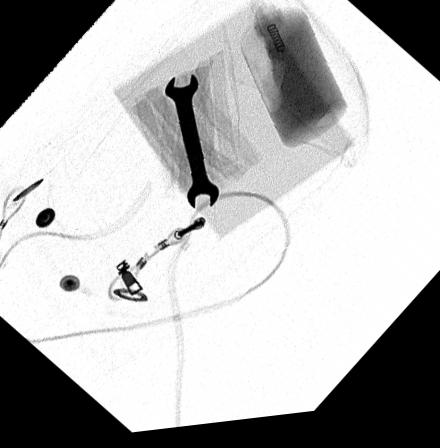Wrench: (163, 75, 220, 215)
